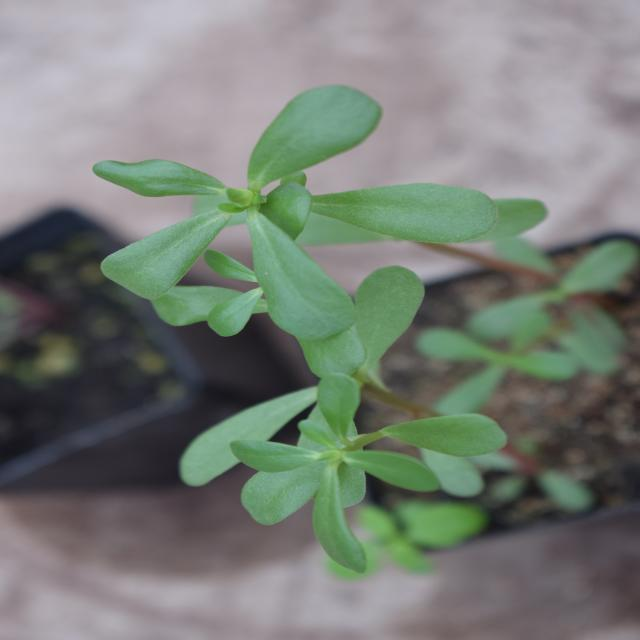purslane: (67, 95, 566, 537)
